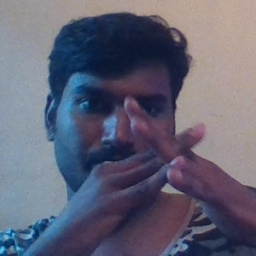W: (101, 89, 234, 225)
